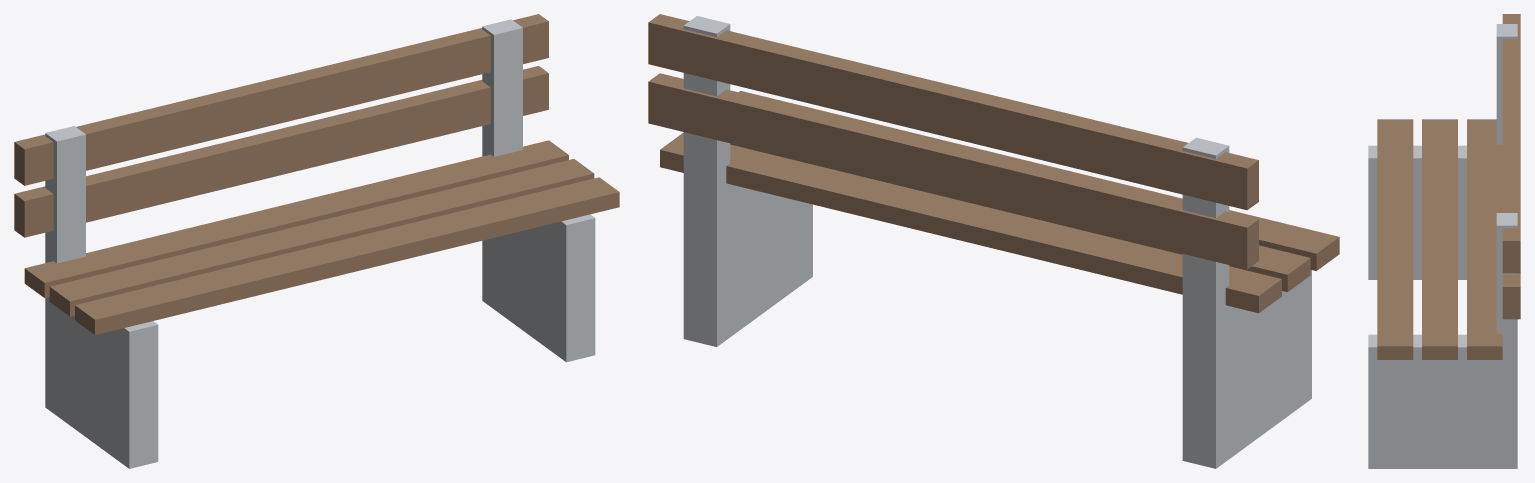
File: bench.glb
3 views of the same model, side by side, from view 1: azimuth 30°, elevation 25°; view 2: azimuth 150°, elevation 25°; view 3: azimuth 270°, elevation 25° (orthographic). The views are drawn at different scales.
Visible parts, largest first — view 1: bench; view 2: bench; view 3: bench.
Boxes of the visible parts, bbox=[...] form: bench: bbox=[14, 14, 619, 468]; bench: bbox=[648, 14, 1339, 468]; bench: bbox=[1368, 14, 1520, 468].
Bounding box in the file's own units: 1.8 × 0.9 × 0.51.
